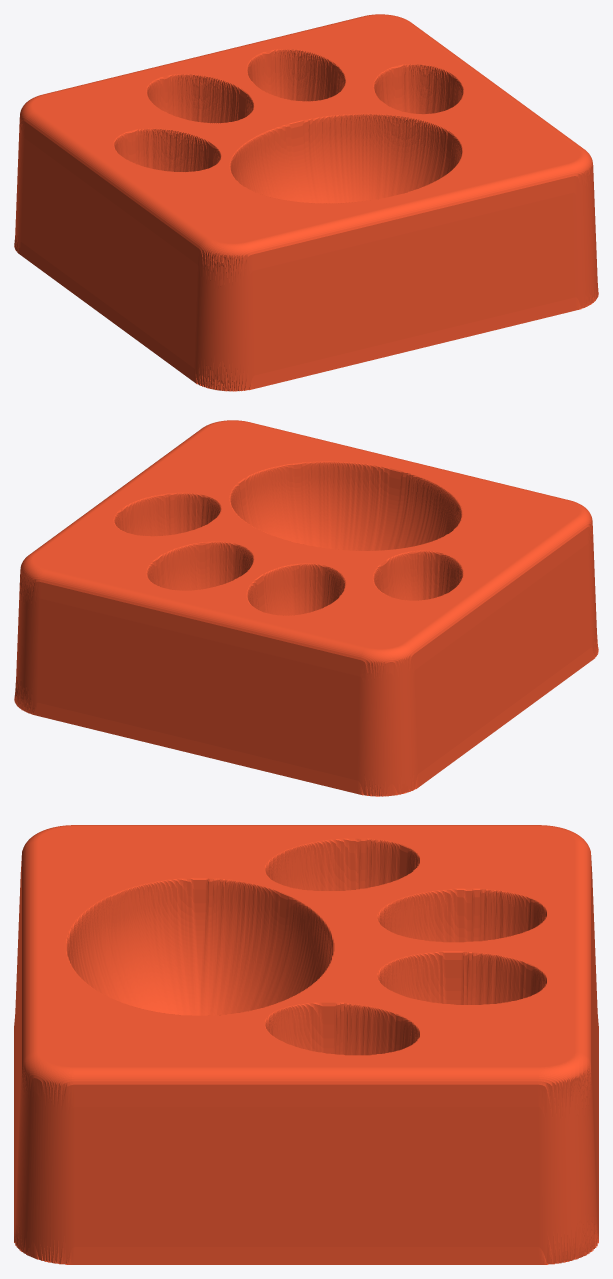
The model's file is mold.glb.
The picture shows the model from 3 angles, top to bottom: view 1: azimuth 30°, elevation 25°; view 2: azimuth 150°, elevation 25°; view 3: azimuth 270°, elevation 25°; orthographic projection. The views are drawn at different scales.
Visible parts, largest first — view 1: geometry_0; view 2: geometry_0; view 3: geometry_0.
Boxes of the visible parts, x1=… form: geometry_0: x1=14, y1=14, x2=598, y2=391; geometry_0: x1=14, y1=420, x2=598, y2=796; geometry_0: x1=14, y1=825, x2=598, y2=1264.
Size of the model in its own units: 0.0924 by 0.031 by 0.0876.
